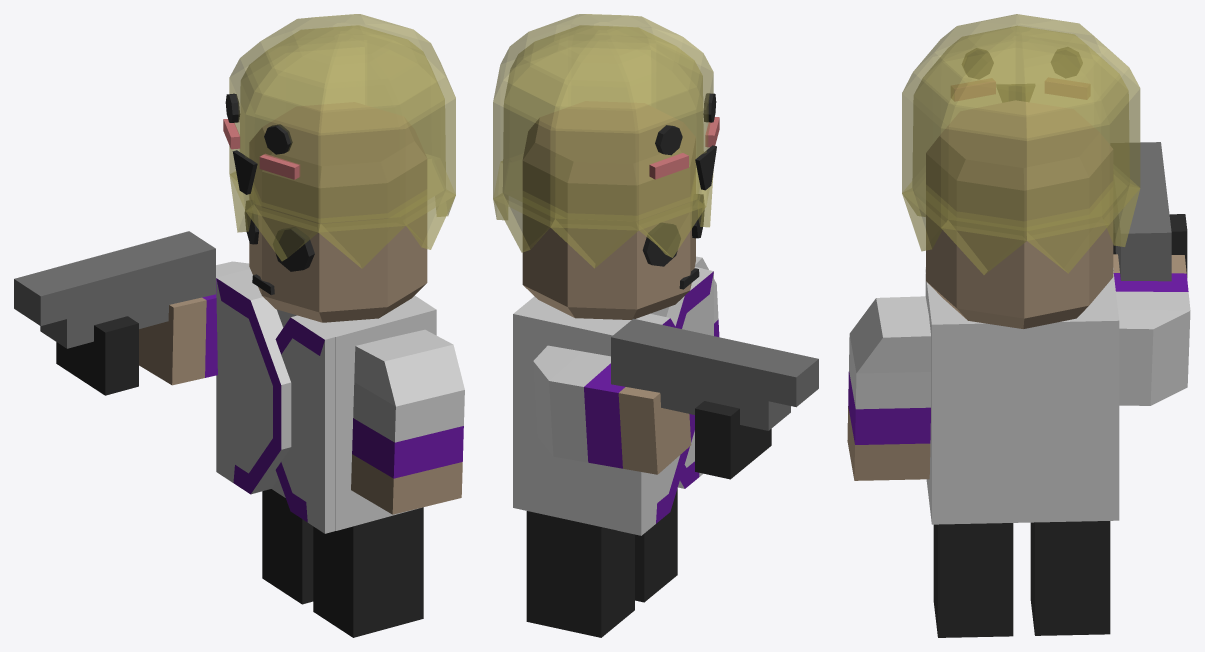
File: Player2Sketch.fbx
3 renders of one model, left to right at view 1: azimuth 30°, elevation 25°; view 2: azimuth 150°, elevation 25°; view 3: azimuth 270°, elevation 25°, orthographic. The views are drawn at different scales.
Parts seen in each view (by area): view 1: Player1; view 2: Player1; view 3: Player1.
Part boxes in pixels (x1,y1,x2,y2): Player1: (14, 14, 464, 637); Player1: (493, 14, 818, 637); Player1: (847, 14, 1190, 637).
Bounding box in the file's own units: 108 × 164 × 86.26.
